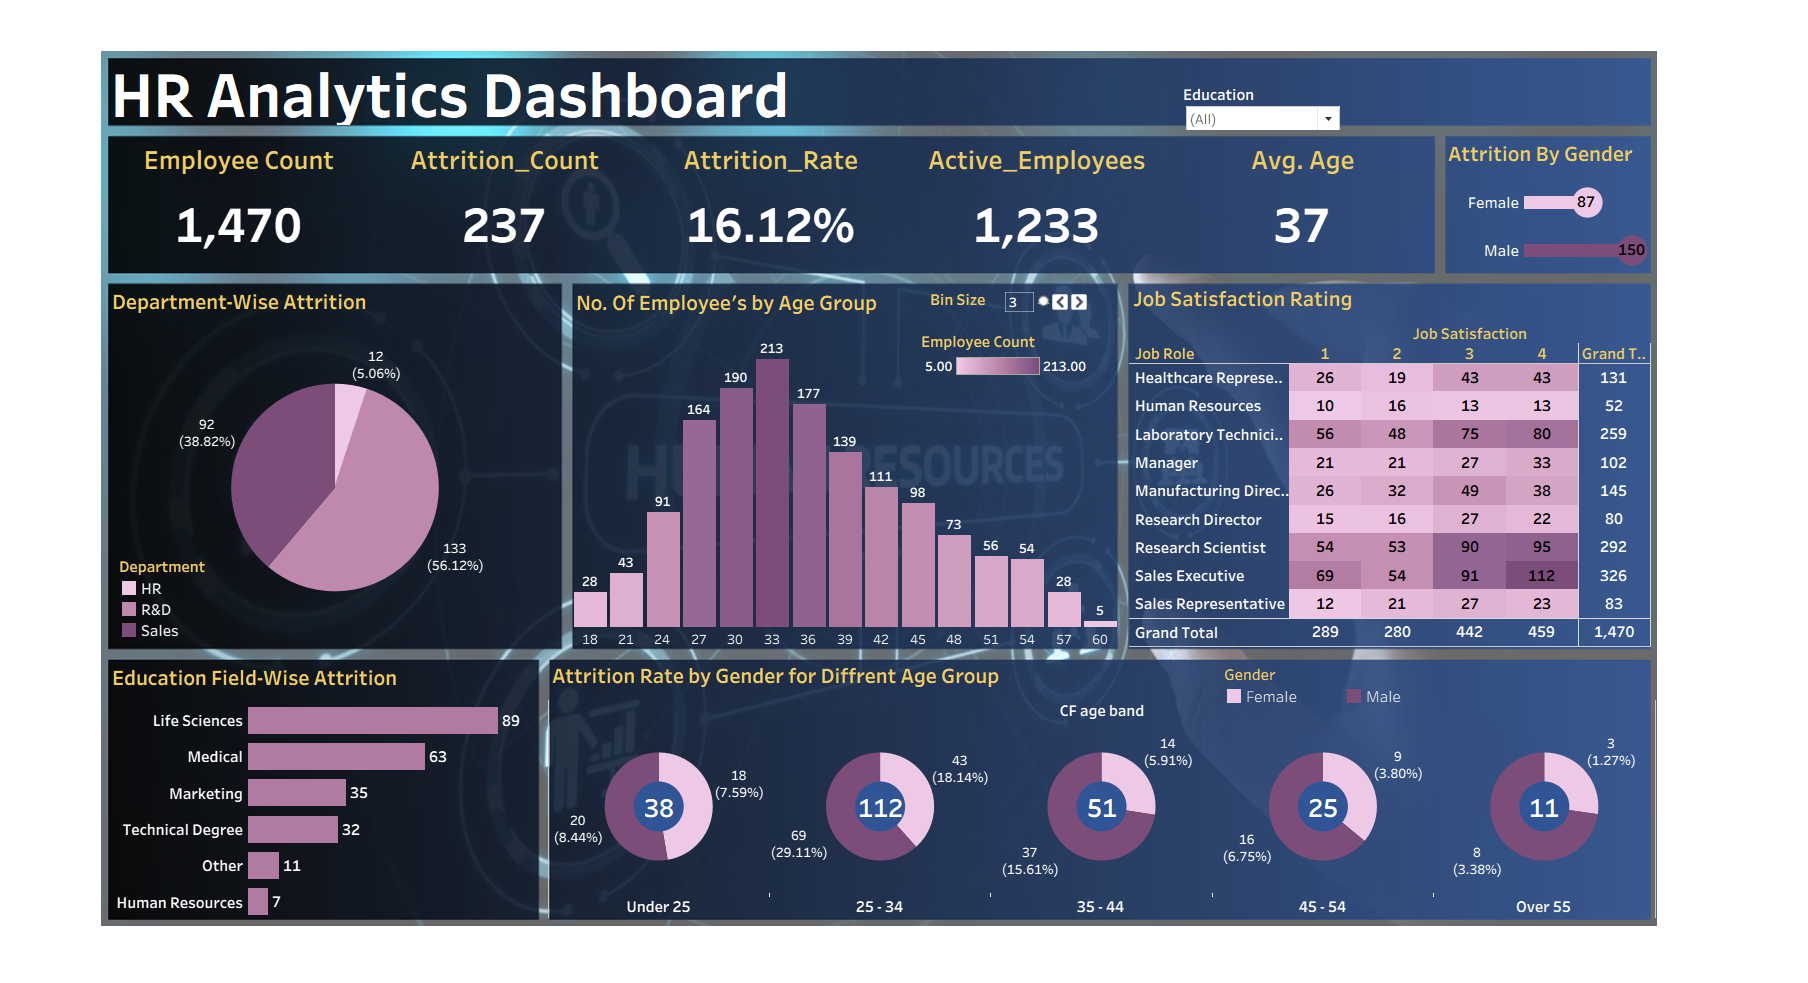

Layout of this report page (visuals, bound fields, positions):
{"tool":"tableau","page":{"name":"HR Analytics Dashboard","canvas":[1580,900],"ordinal":0},"visuals":[{"type":"image","param":"Image/HR background final.png","box":[8,8,1564,884]},{"type":"text","box":[18,20,1019,66]},{"type":"filter","title":"Education Field-Wise Attrition","param":"[federated.1ucpl7f1yrsp3t1bixaat1lb7akc].[none:Education:nk]","box":[1094,45,160,46]},{"type":"worksheet","title":"Attrition By Gender","mark":"Bar","rows":["Gender"],"cols":["Calculation_1142122826784768","Calculation_1142122826784768"],"box":[1355,96,210,139]},{"type":"worksheet","title":"KPI's","mark":"Automatic","box":[17,97,1330,135]},{"type":"worksheet","title":"Job Satisfaction Rating","mark":"Square","rows":["Job Role"],"cols":["Job Satisfaction"],"box":[1040,241,522,367]},{"type":"worksheet","title":"Department-Wise Attrition","mark":"Pie","box":[19,244,454,366]},{"type":"worksheet","title":"No. Of Employee's by Age Group","mark":"Automatic","rows":["Employee Count"],"cols":["Age (bin)"],"box":[483,245,547,365]},{"type":"parameter","param":"[Parameters].[Parameter 1]","box":[841,250,160,40]},{"type":"legend","title":"No. Of Employee's by Age Group","param":"[federated.1ucpl7f1yrsp3t1bixaat1lb7akc].[sum:Employee Count:qk]","box":[832,292,170,81]},{"type":"legend","title":"Department-Wise Attrition","param":"[federated.1ucpl7f1yrsp3t1bixaat1lb7akc].[none:Department:nk]","box":[30,517,94,85]},{"type":"worksheet","title":"Attrition Rate by Gender for Diffrent Age Group","mark":"Pie","rows":["Calculation_1142122866036740","Calculation_1142122866036740"],"cols":["CF_age band"],"box":[459,618,1108,262]},{"type":"worksheet","title":"Education Field-Wise Attrition","mark":"Automatic","rows":["Education Field"],"cols":["Calculation_1142122826784768"],"box":[19,620,429,261]},{"type":"legend","title":"Attrition Rate by Gender for Diffrent Age Group","param":"[federated.1ucpl7f1yrsp3t1bixaat1lb7akc].[none:Gender:nk]","box":[1135,625,397,43]}]}

Visuals, with their boxes on the page's 1580x900 design canvas (x1, y1, x2, y2). These are canvas units, not pixel positions in the 1808x983 screenshot, which may show the page scaled, cropped or inside an application window:
image: x1=8 y1=8 x2=1572 y2=892
text: x1=18 y1=20 x2=1037 y2=86
"Education Field-Wise Attrition" filter: x1=1094 y1=45 x2=1254 y2=91
"Attrition By Gender" worksheet (Bar marks): x1=1355 y1=96 x2=1565 y2=235
"KPI's" worksheet: x1=17 y1=97 x2=1347 y2=232
"Job Satisfaction Rating" worksheet (Square marks): x1=1040 y1=241 x2=1562 y2=608
"Department-Wise Attrition" worksheet (Pie marks): x1=19 y1=244 x2=473 y2=610
"No. Of Employee's by Age Group" worksheet: x1=483 y1=245 x2=1030 y2=610
parameter: x1=841 y1=250 x2=1001 y2=290
"No. Of Employee's by Age Group" legend: x1=832 y1=292 x2=1002 y2=373
"Department-Wise Attrition" legend: x1=30 y1=517 x2=124 y2=602
"Attrition Rate by Gender for Diffrent Age Group" worksheet (Pie marks): x1=459 y1=618 x2=1567 y2=880
"Education Field-Wise Attrition" worksheet: x1=19 y1=620 x2=448 y2=881
"Attrition Rate by Gender for Diffrent Age Group" legend: x1=1135 y1=625 x2=1532 y2=668
